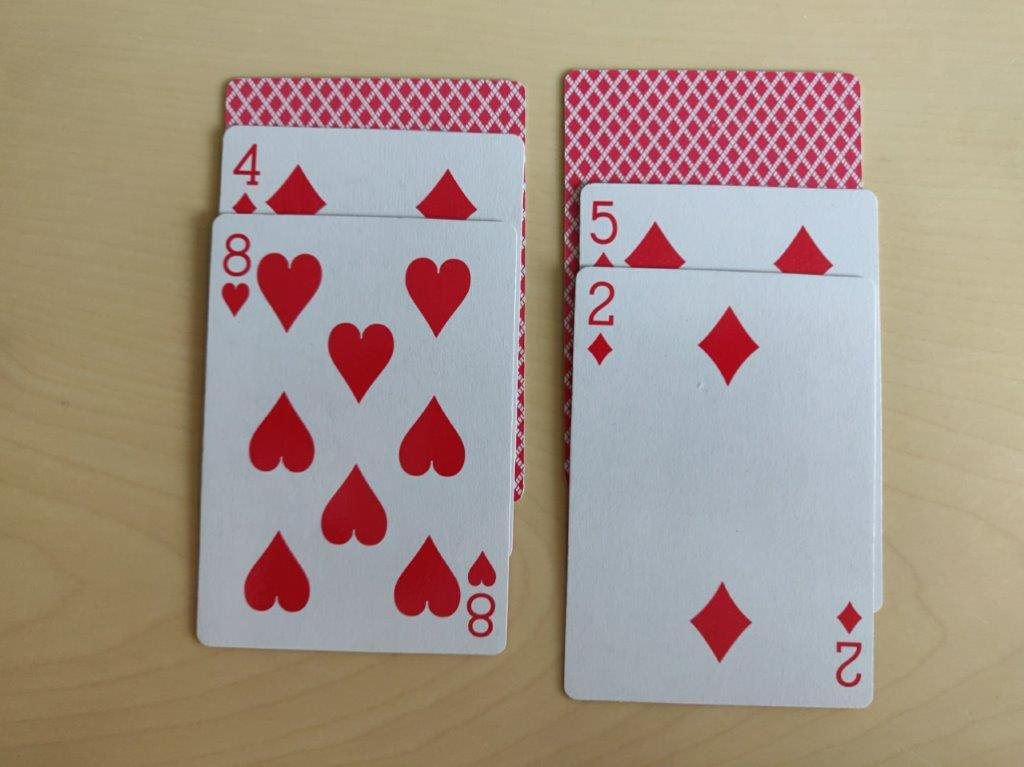2D: (585, 278, 617, 371)
4D: (227, 142, 264, 217)
5D: (587, 192, 621, 271)
8H: (215, 226, 258, 326)
BACK: (562, 66, 866, 187), (213, 71, 526, 137)
